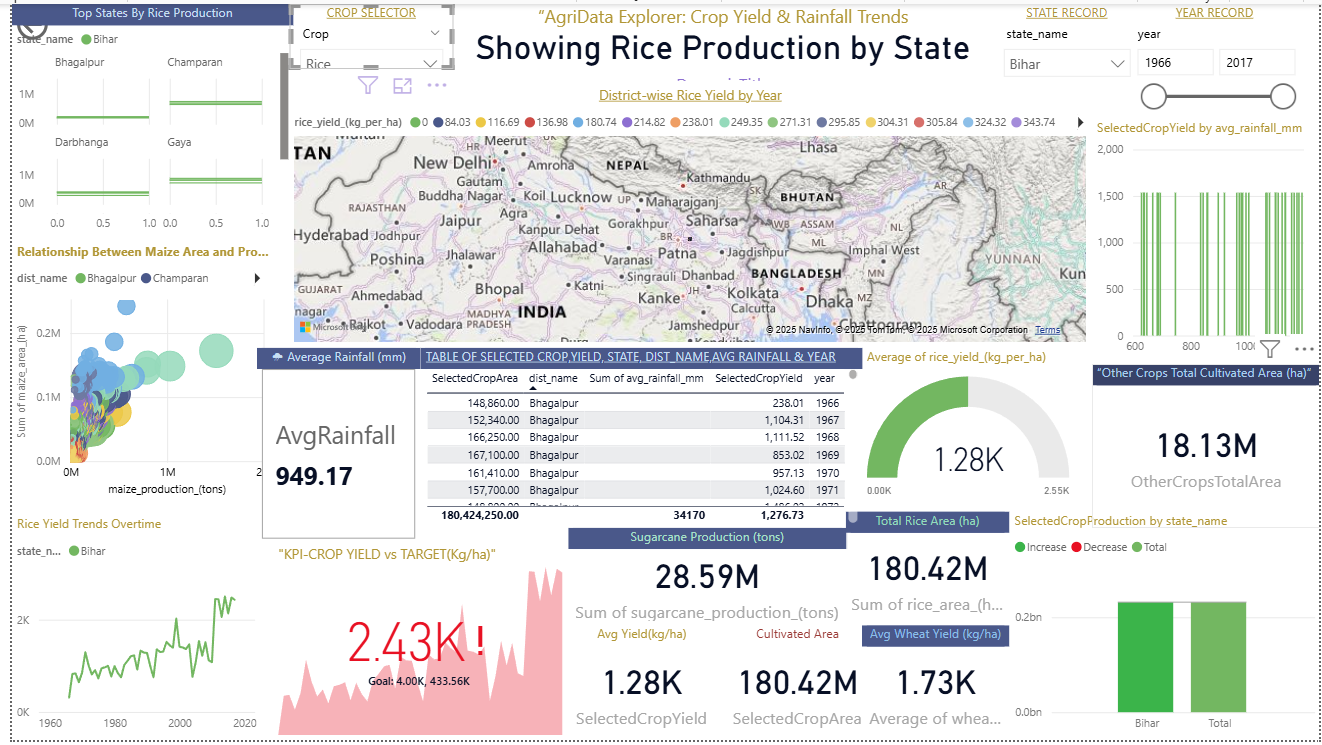

The page's visual inventory and layout, read from the dashboard file:
{"tool":"powerbi","page":{"name":"Page 1","canvas":[1280,720],"ordinal":0},"visuals":[{"type":"lineChart","title":"Rice Yield Trends Overtime","fields":{"Y":["Avg(cleaned_icrisat_agriculture_data.rice_yield_(kg_per_ha))"],"Category":["cleaned_icrisat_agriculture_data.year"],"Series":["cleaned_icrisat_agriculture_data.state_name"]},"box":[0,500.1,244.6,220.1],"z":0},{"type":"actionButton","box":[0,0,100,40],"z":1000},{"type":"clusteredBarChart","title":"Top States By Rice Production","fields":{"Category":["cleaned_icrisat_agriculture_data.rice_production_(tons)"],"Y":["CountNonNull(cleaned_icrisat_agriculture_data.state_name)"],"Series":["cleaned_icrisat_agriculture_data.state_name"],"Rows":["cleaned_icrisat_agriculture_data.dist_name"]},"box":[0,0,272,240],"z":2000},{"type":"scatterChart","title":"Relationship Between Maize Area and Production","fields":{"X":["cleaned_icrisat_agriculture_data.maize_production_(tons)"],"Y":["Sum(cleaned_icrisat_agriculture_data.maize_area_(ha))"],"Size":["Sum(cleaned_icrisat_agriculture_data.maize_yield_(kg_per_ha))"],"Series":["cleaned_icrisat_agriculture_data.dist_name"]},"box":[0,233.6,259.2,251.9],"z":3000},{"type":"filledMap","title":"District-wise Rice Yield by Year","fields":{"Category":["cleaned_icrisat_agriculture_data.state_name","cleaned_icrisat_agriculture_data.dist_name"],"Series":["cleaned_icrisat_agriculture_data.rice_yield_(kg_per_ha)"]},"box":[272,80,784,256],"z":4000},{"type":"card","title":"Avg Wheat Yield (kg/ha)","fields":{"Values":["Avg(cleaned_icrisat_agriculture_data.wheat_yield_(kg_per_ha))"]},"box":[832,608,144,112],"z":5000},{"type":"card","title":"Total Rice Area (ha)","fields":{"Values":["Sum(cleaned_icrisat_agriculture_data.rice_area_(ha))"]},"box":[816,496,160,112],"z":6000},{"type":"card","title":"Sugarcane Production (tons)","fields":{"Values":["Sum(cleaned_icrisat_agriculture_data.sugarcane_production_(tons))"]},"box":[544,512,272,96],"z":7000},{"type":"gauge","fields":{"Y":["Avg(cleaned_icrisat_agriculture_data.rice_yield_(kg_per_ha))"]},"box":[832,336,208,160],"z":8000},{"type":"card","title":"Avg Yield(kg/ha)","fields":{"Values":["cleaned_icrisat_agriculture_data.SelectedCropYield"]},"box":[544,608,144,112],"z":9000},{"type":"card","title":"Cultivated Area","fields":{"Values":["cleaned_icrisat_agriculture_data.SelectedCropArea"]},"box":[688,608,160,112],"z":10000},{"type":"slicer","title":"CROP SELECTOR","fields":{"Values":["CropSelector.Crop"]},"box":[272,0,160,64],"z":11000},{"type":"waterfallChart","fields":{"Category":["cleaned_icrisat_agriculture_data.state_name"],"Y":["cleaned_icrisat_agriculture_data.SelectedCropProduction"]},"box":[976,496,304,224],"z":12000},{"type":"card","title":"“AgriData Explorer: Crop Yield & Rainfall Trends","fields":{"Values":["CropSelector.DynamicTitle"]},"box":[432,0,528,80],"z":13000},{"type":"slicer","title":"YEAR RECORD","fields":{"Values":["cleaned_icrisat_agriculture_data.year"]},"box":[1088,0,176,112],"z":14000},{"type":"slicer","title":"STATE RECORD","fields":{"Values":["cleaned_icrisat_agriculture_data.state_name"]},"box":[960,0,144,80],"z":15000},{"type":"clusteredColumnChart","fields":{"Category":["full_year_range_rainfall_data.avg_rainfall_mm"],"Y":["cleaned_icrisat_agriculture_data.SelectedCropYield"]},"box":[1056,112,224,240],"z":16000},{"type":"tableEx","title":"TABLE OF SELECTED CROP,YIELD, STATE, DIST_NAME,AVG RAINFALL & YEAR","fields":{"Values":["cleaned_icrisat_agriculture_data.SelectedCropArea","cleaned_icrisat_agriculture_data.dist_name","Sum(full_year_range_rainfall_data.avg_rainfall_mm)","cleaned_icrisat_agriculture_data.SelectedCropYield","cleaned_icrisat_agriculture_data.year"]},"box":[400,336,432,176],"z":17000},{"type":"cardVisual","title":"🌧 Average Rainfall (mm)","fields":{"Data":["full_year_range_rainfall_data.AvgRainfall"]},"box":[240,336,160,192],"z":18000},{"type":"kpi","title":"\"KPI-CROP YIELD vs TARGET(Kg/ha)\"","fields":{"TrendLine":["cleaned_icrisat_agriculture_data.year"],"Indicator":["cleaned_icrisat_agriculture_data.SelectedCropYield"],"Goal":["CropSelector.Target Yield","Sum(cleaned_icrisat_agriculture_data.fruits_and_vegetables_area_(ha))"]},"box":[256,528,288,192],"z":19000},{"type":"card","title":"“Other Crops Total Cultivated Area (ha)”","fields":{"Values":["CropSelector.OtherCropsTotalArea"]},"box":[1056,352,224,160],"z":20000}]}

Visuals, with their boxes in screenshot pixels (x1, y1, x2, y2), scaled from the page's 1280x720 canvas onto the 1322x745 screenshot:
"Rice Yield Trends Overtime" lineChart: select_region(0, 517, 253, 744)
actionButton: select_region(0, 0, 103, 41)
"Top States By Rice Production" clusteredBarChart: select_region(0, 0, 281, 248)
"Relationship Between Maize Area and Production" scatterChart: select_region(0, 242, 268, 502)
"District-wise Rice Yield by Year" filledMap: select_region(281, 83, 1091, 348)
"Avg Wheat Yield (kg/ha)" card: select_region(859, 629, 1008, 744)
"Total Rice Area (ha)" card: select_region(843, 513, 1008, 629)
"Sugarcane Production (tons)" card: select_region(562, 530, 843, 629)
gauge - Avg(cleaned_icrisat_agriculture_data.rice_yield_(kg_per_ha)): select_region(859, 348, 1074, 513)
"Avg Yield(kg/ha)" card: select_region(562, 629, 711, 744)
"Cultivated Area" card: select_region(711, 629, 876, 744)
"CROP SELECTOR" slicer: select_region(281, 0, 446, 66)
waterfallChart - cleaned_icrisat_agriculture_data.state_name x cleaned_icrisat_agriculture_data.SelectedCropProduction: select_region(1008, 513, 1321, 744)
"“AgriData Explorer: Crop Yield & Rainfall Trends" card: select_region(446, 0, 991, 83)
"YEAR RECORD" slicer: select_region(1124, 0, 1305, 116)
"STATE RECORD" slicer: select_region(991, 0, 1140, 83)
clusteredColumnChart - full_year_range_rainfall_data.avg_rainfall_mm x cleaned_icrisat_agriculture_data.SelectedCropYield: select_region(1091, 116, 1321, 364)
"TABLE OF SELECTED CROP,YIELD, STATE, DIST_NAME,AVG RAINFALL & YEAR" tableEx: select_region(413, 348, 859, 530)
"🌧 Average Rainfall (mm)" cardVisual: select_region(248, 348, 413, 546)
""KPI-CROP YIELD vs TARGET(Kg/ha)"" kpi: select_region(264, 546, 562, 744)
"“Other Crops Total Cultivated Area (ha)”" card: select_region(1091, 364, 1321, 530)
